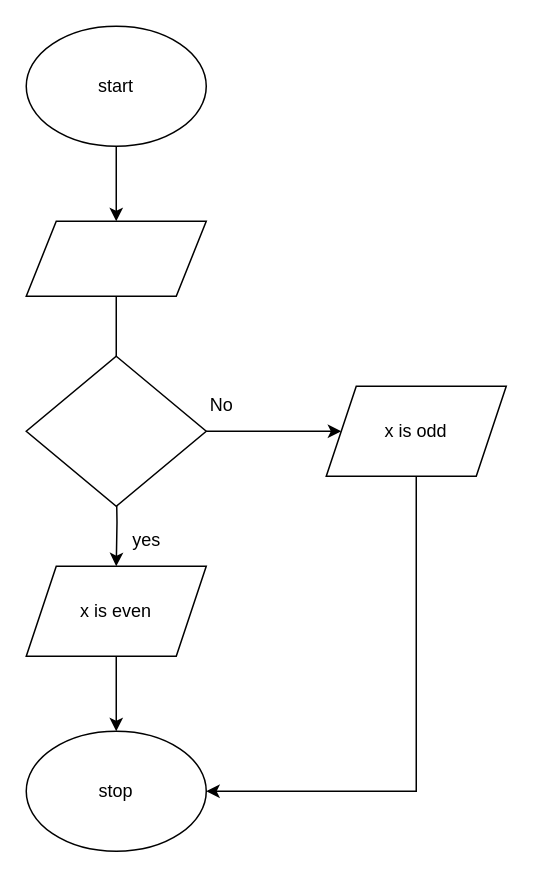
The diagram is 533 pixels wide and 878 high, and some of its shapes have lost their labels. The centre of each missing label's shape, as x and y in pixels:
Input x: the point at 115,258
x%2 =0: the point at 115,430
